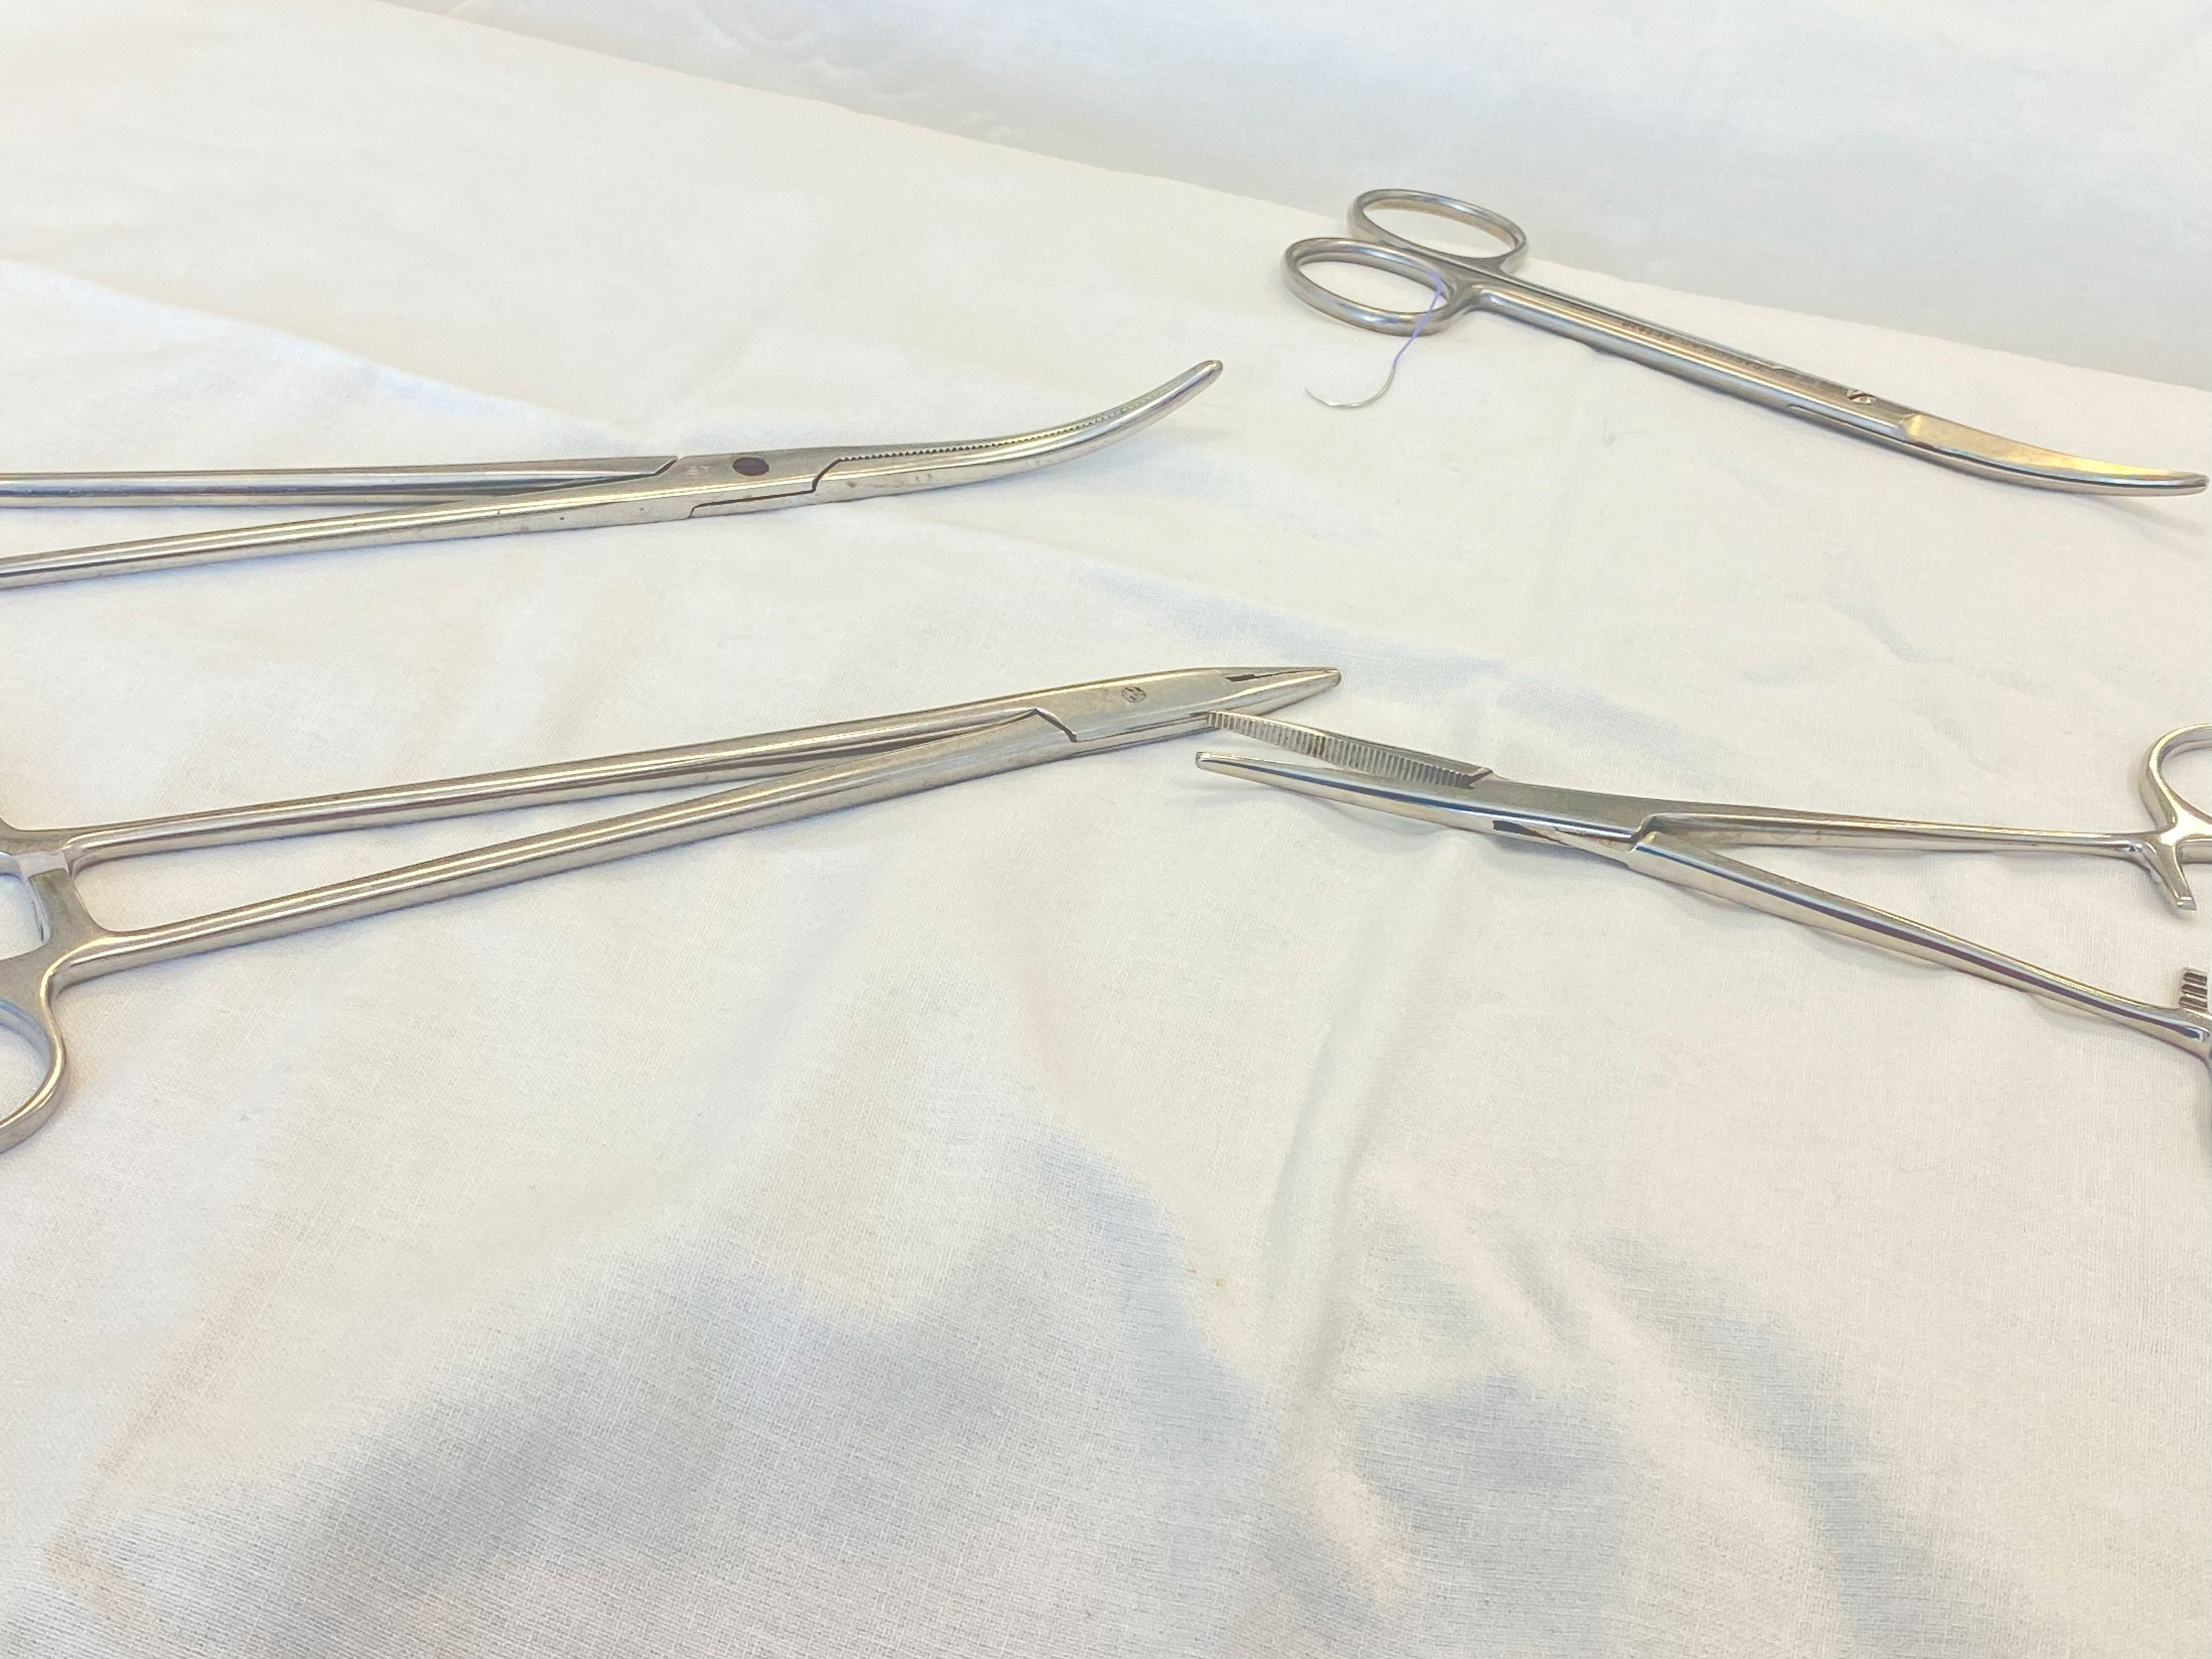clamp: (0, 667, 1339, 1150), (1197, 714, 2212, 1070), (0, 361, 1221, 587)
scissors: (1282, 237, 2207, 495)
